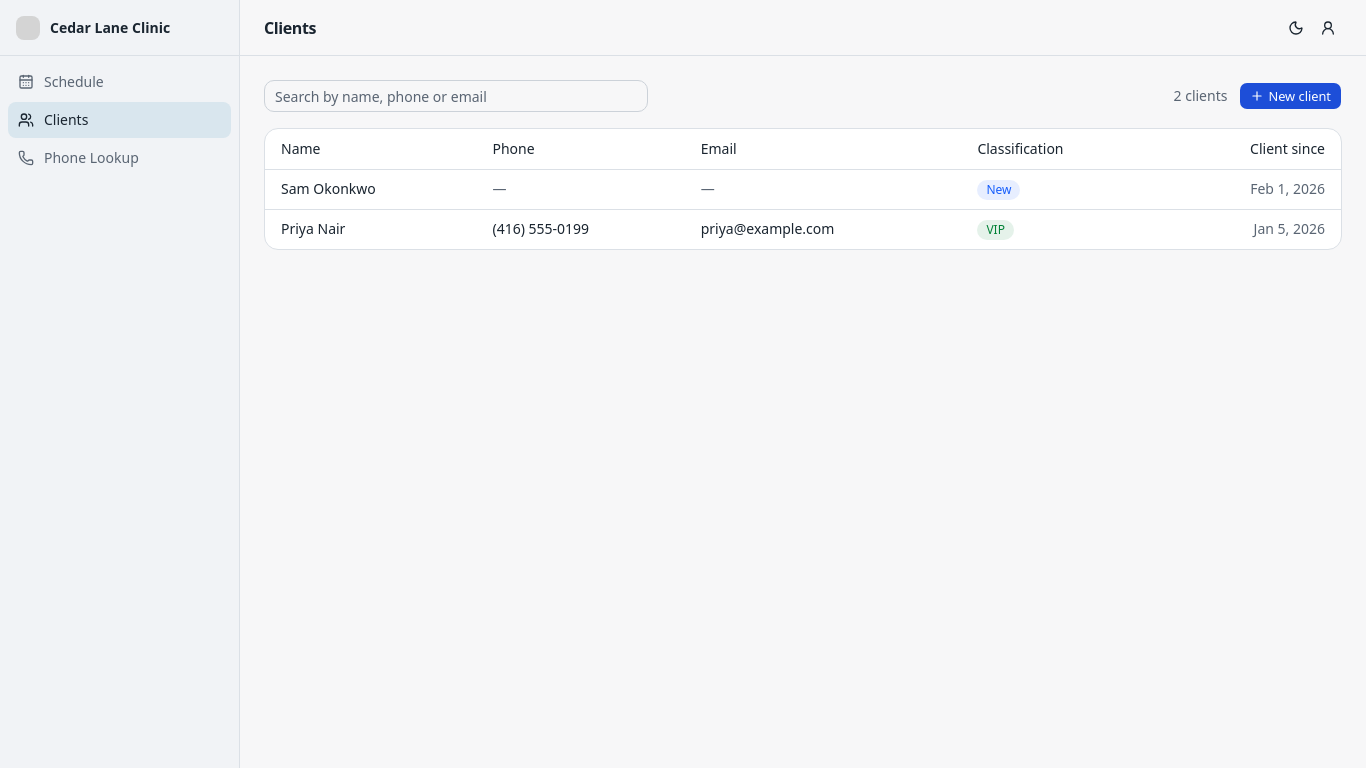
a duplicate email creating a client lands under the email field, same as editing one does
Expected: the link "Priya Nair" is shown, [281,219,345,238]
Click the button "New client" at (1291, 96), box [1239,82,1342,110]
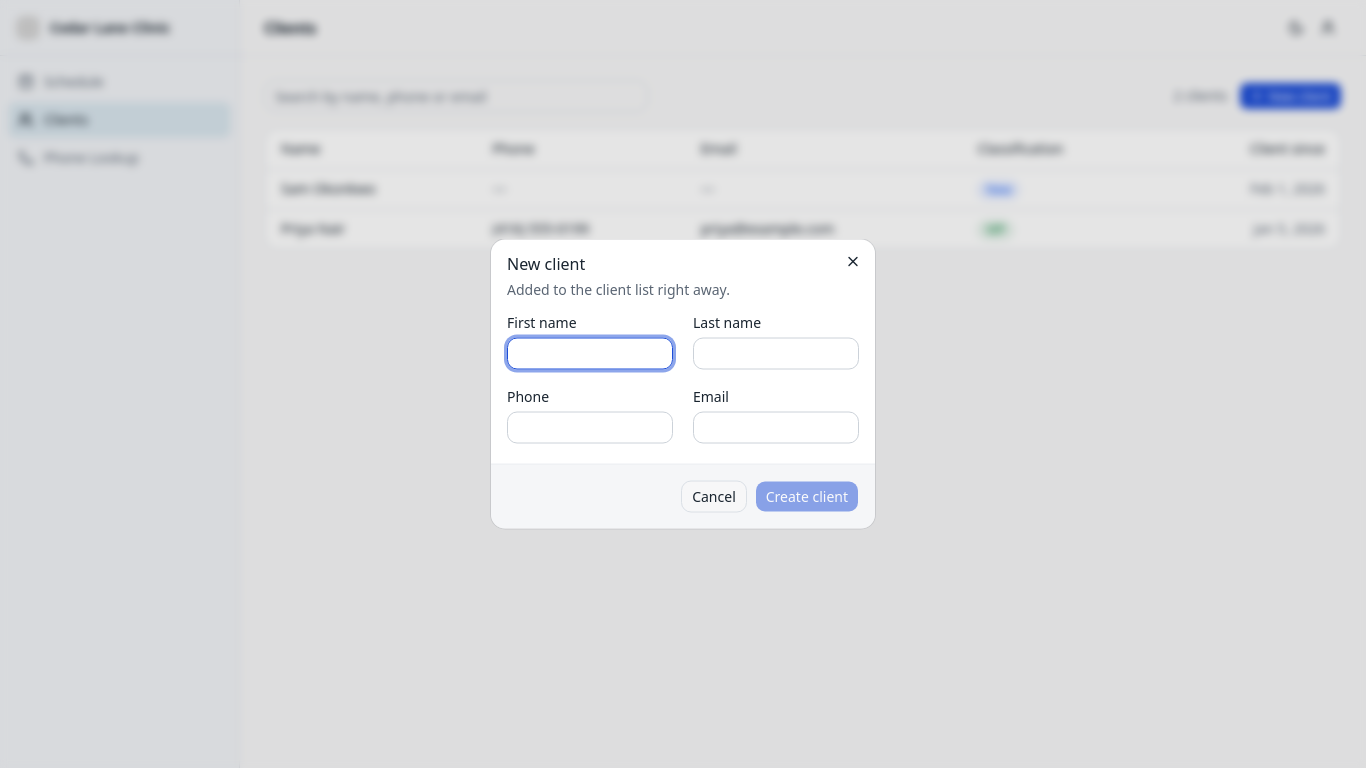
Type "New" into the field labelled "First name" at (590, 354), box [507,338,673,370]
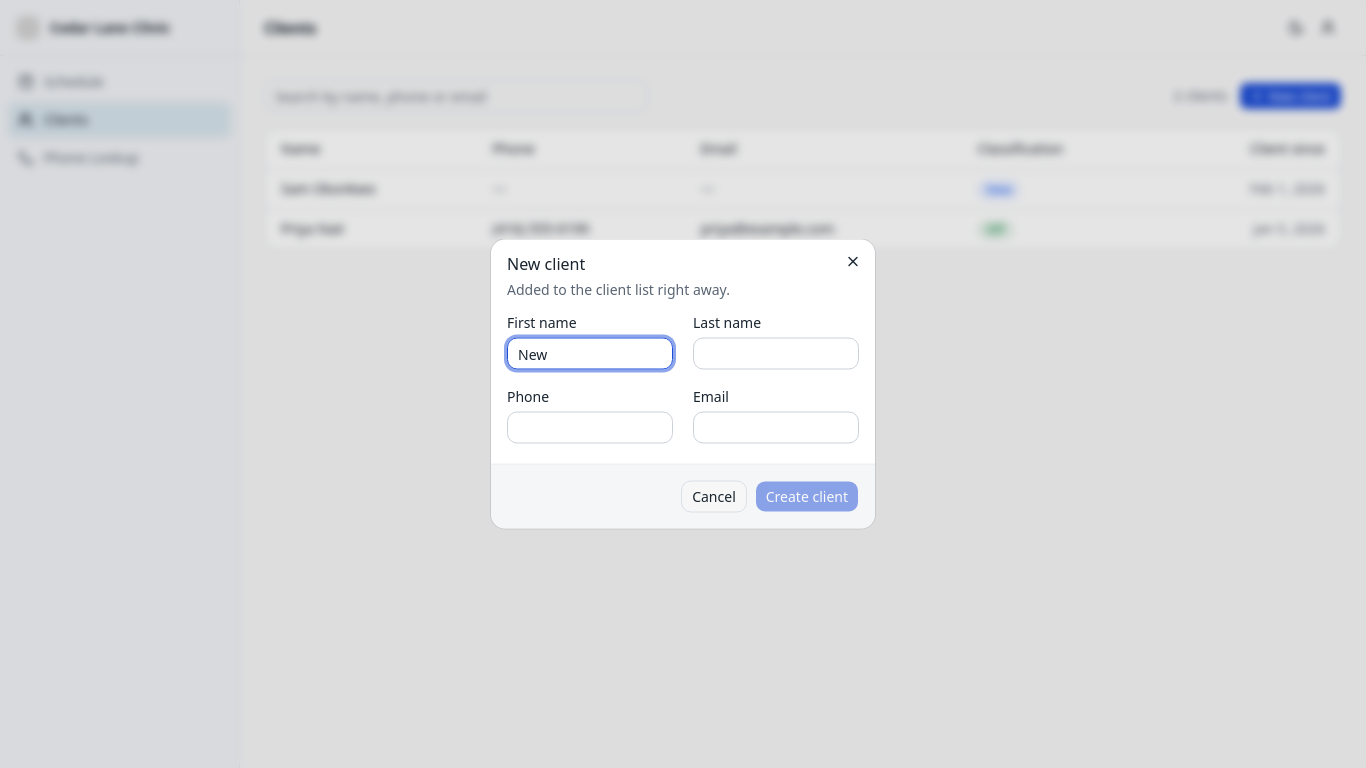
Type "Client" into the field labelled "Last name" at (776, 354), box [693,338,859,370]
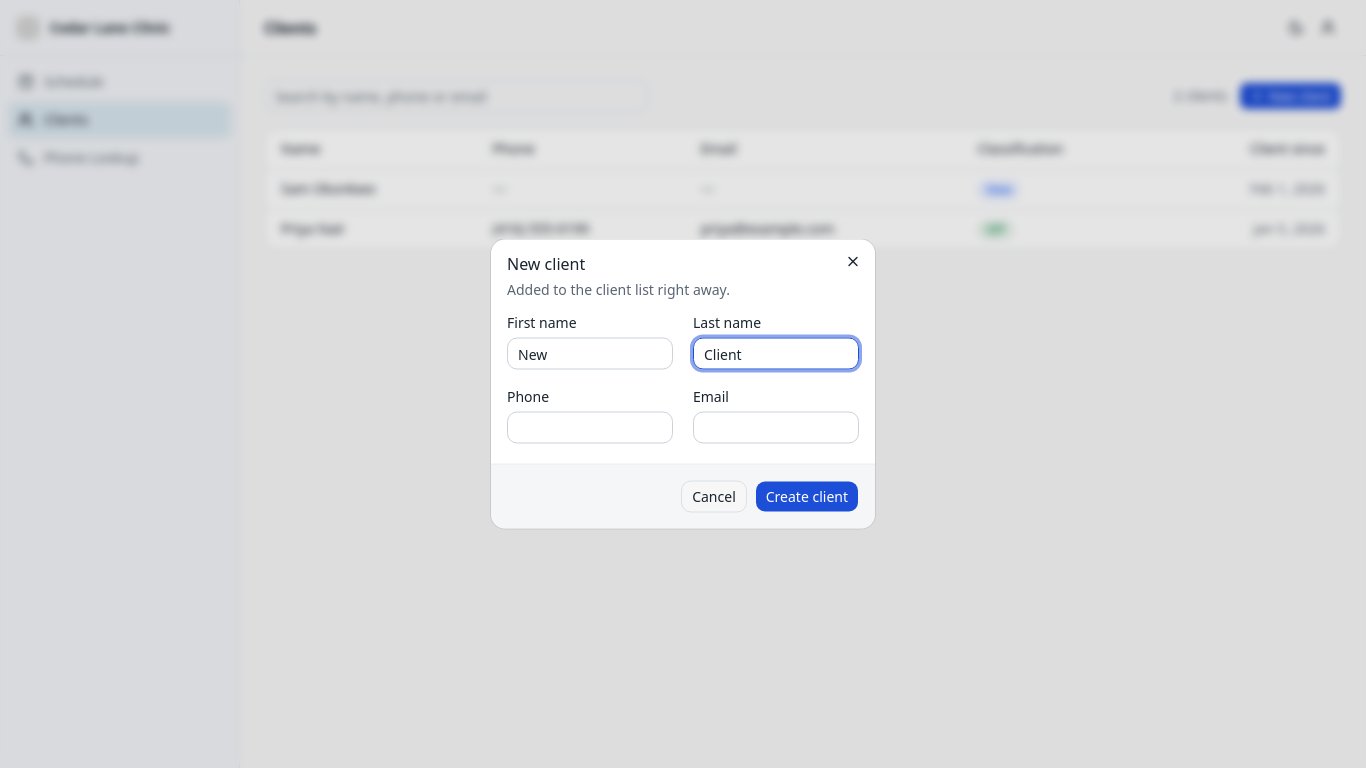
Type "taken@example.com" into the field labelled "Email" at (776, 428), box [693,412,859,444]
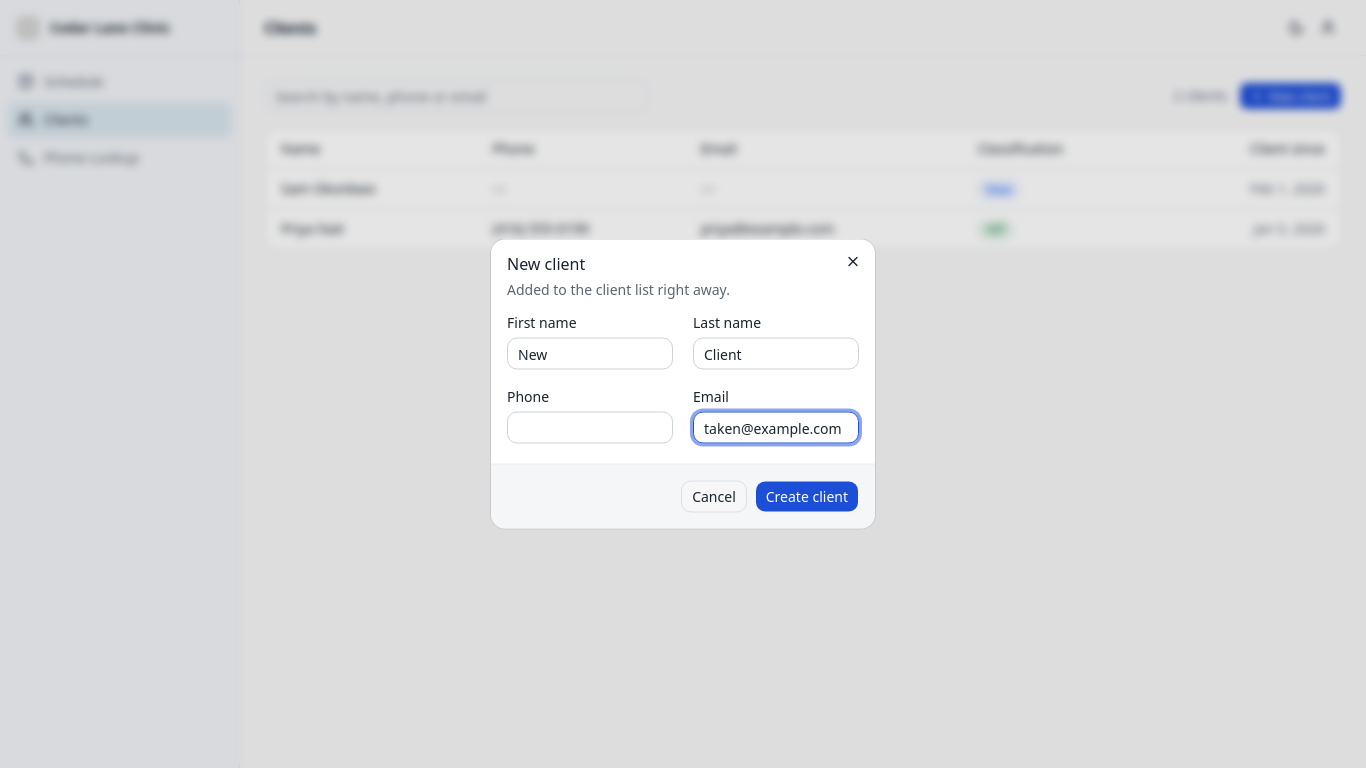
Click the button "Create client" at (807, 496), box [755,480,859,512]
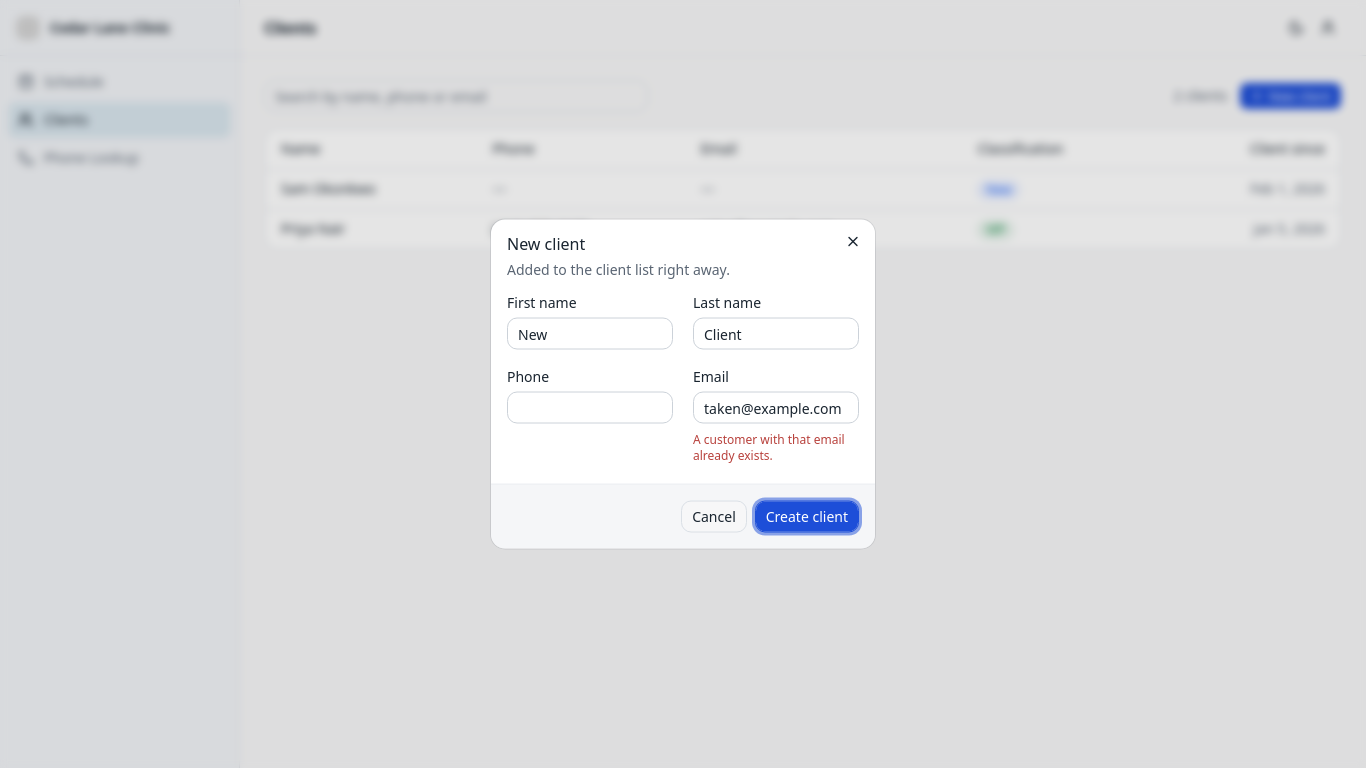
Result: the dialog "New client" is shown at [491,220,875,548]
Result: the text "A customer with that email already exists." is shown at [693,432,859,464]
